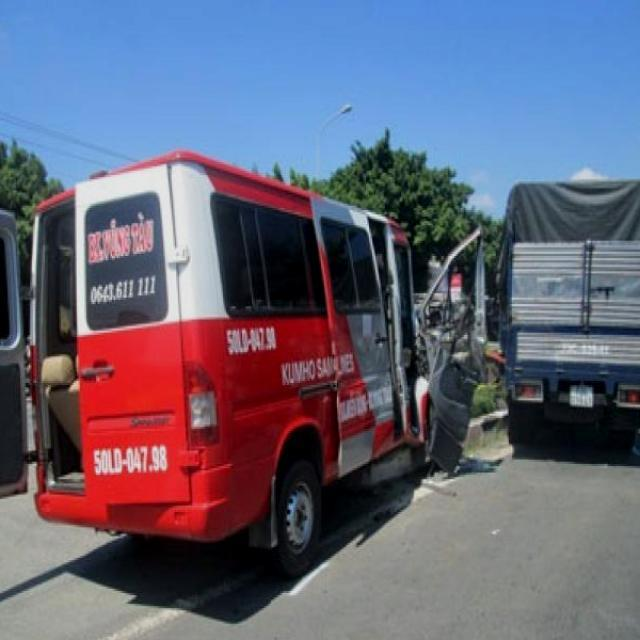accident: (360, 209, 502, 505)
